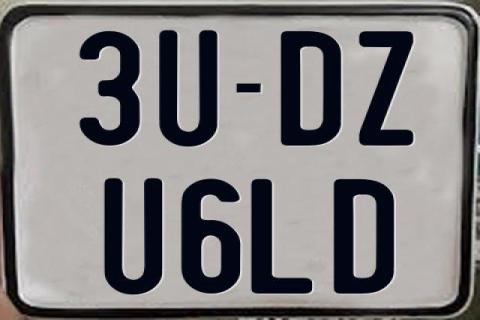0: (180, 179, 243, 297), (78, 30, 139, 148)
D: (280, 31, 344, 148), (332, 177, 392, 293)
L: (251, 179, 318, 293)
U: (158, 30, 220, 150), (102, 176, 164, 295)
Z: (356, 31, 411, 146)
